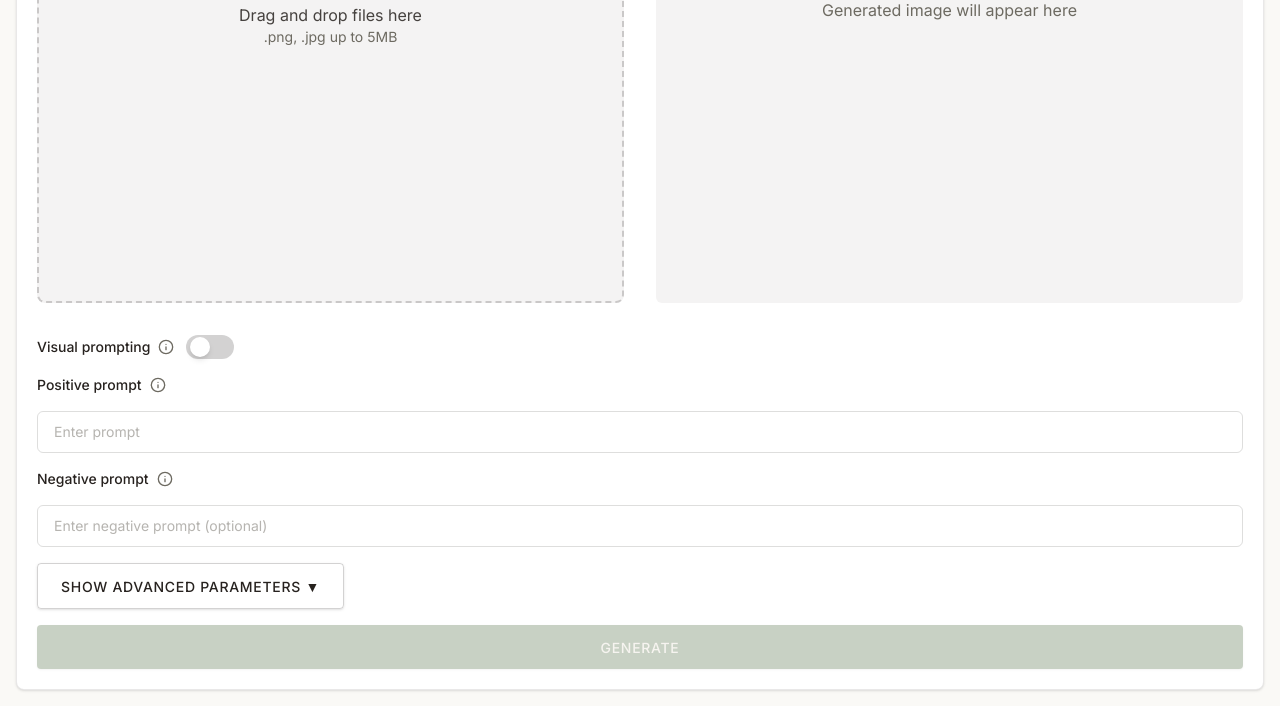
it: ControlNet › should show advanced parameters
(page scrolled)
Click the button "Show advanced parameters ▼" at point(190, 586), box [37, 563, 344, 609]
(page scrolled)
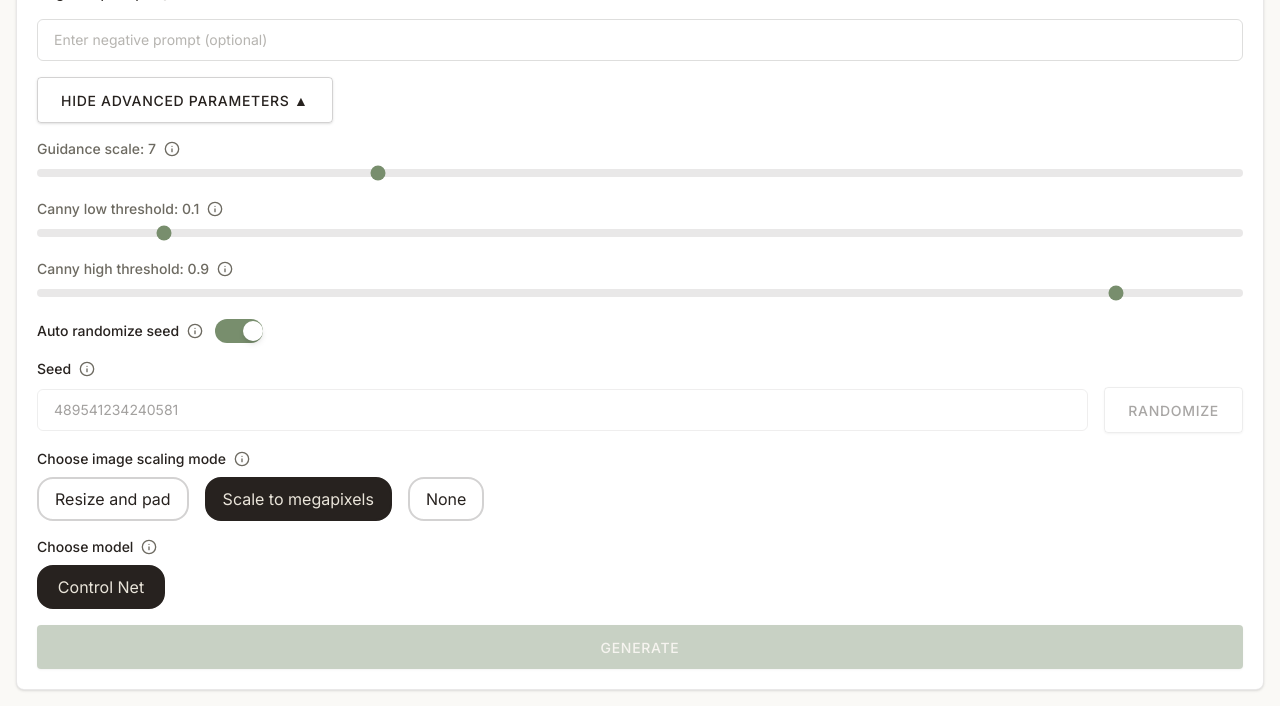
Expected: the text "Guidance scale: 7" is shown, [37, 139, 156, 159]
Expected: the text "Canny low threshold: 0.1" is shown, [37, 199, 199, 219]
Expected: the text "Canny high threshold: 0.9" is shown, [37, 259, 209, 279]
